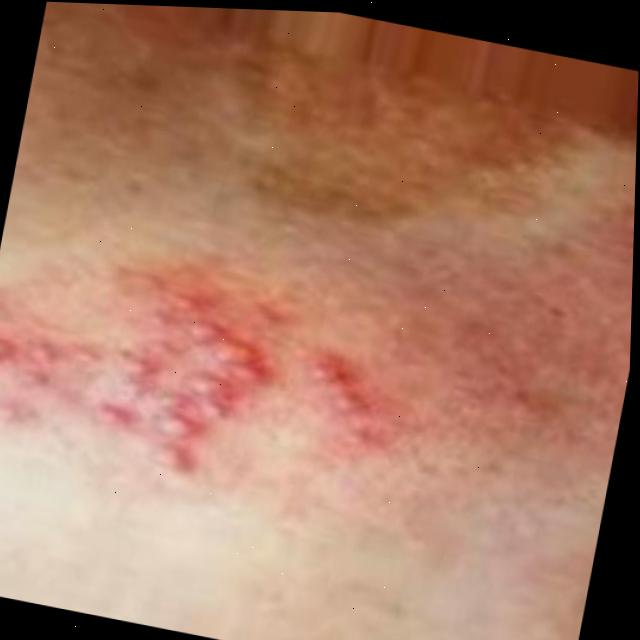Shingles: (0, 281, 276, 489), (303, 359, 367, 435)
